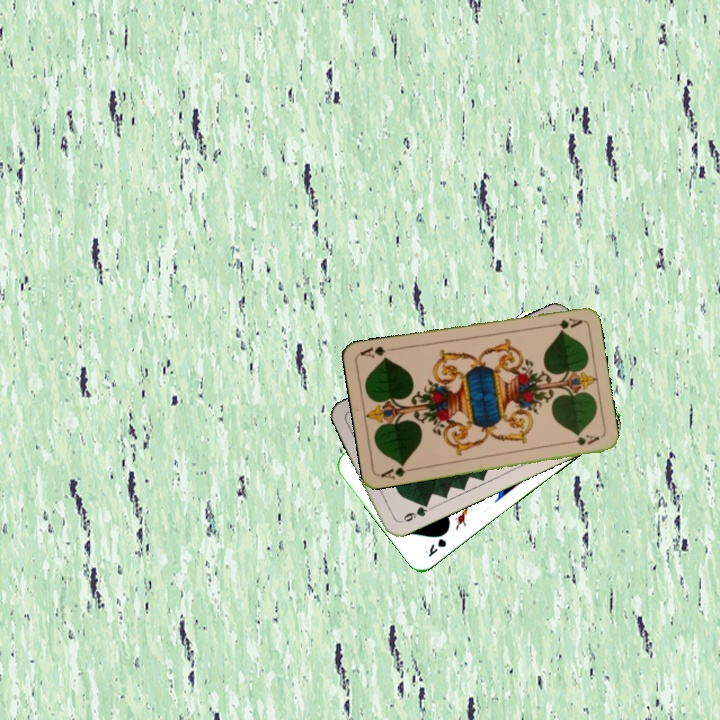G9: (395, 498, 431, 525)
GA: (377, 460, 417, 481), (543, 314, 584, 332)
GK: (421, 534, 449, 560)
